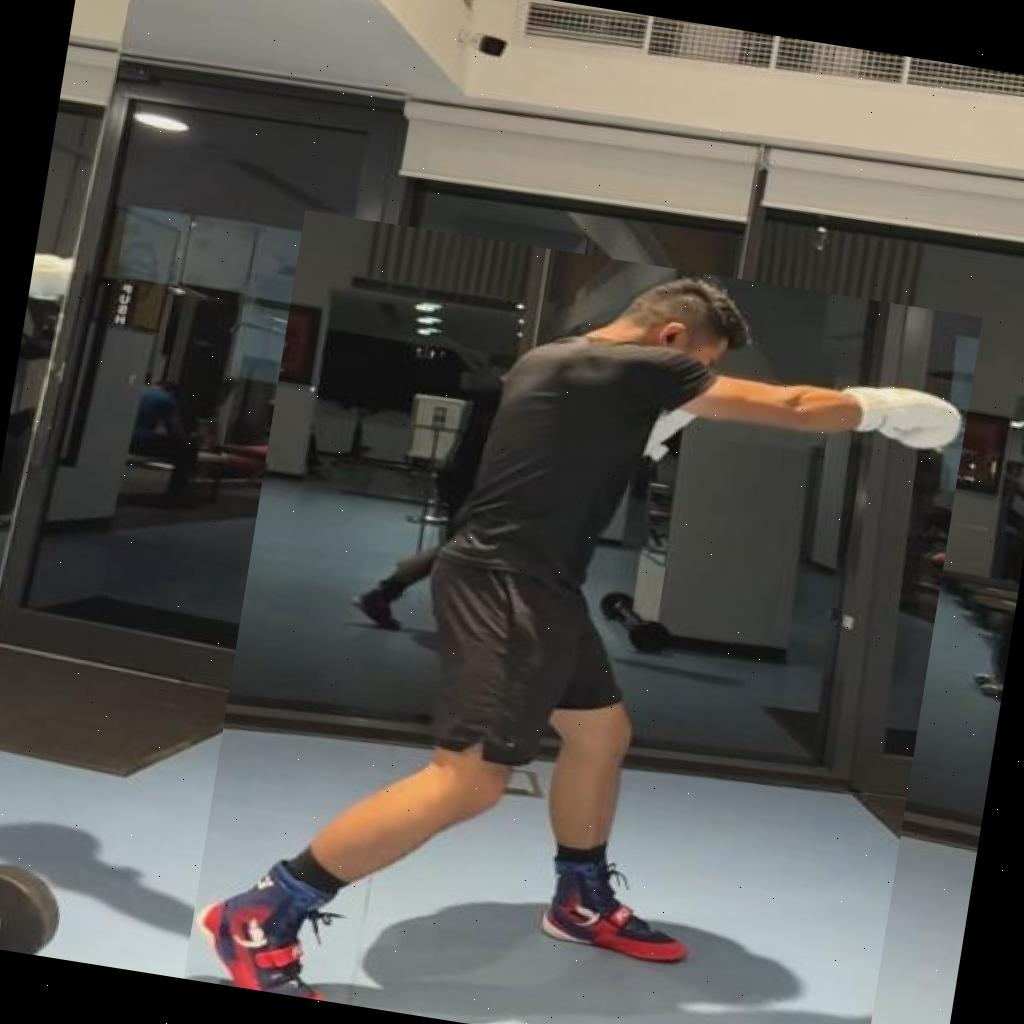cross: (183, 209, 982, 1024)
